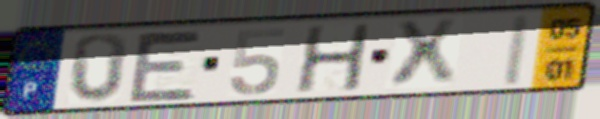0: (68, 31, 131, 106)
5: (226, 25, 289, 97)
E: (125, 29, 207, 105)
H: (291, 21, 375, 96)
I: (497, 12, 537, 89)
X: (389, 15, 461, 92)
